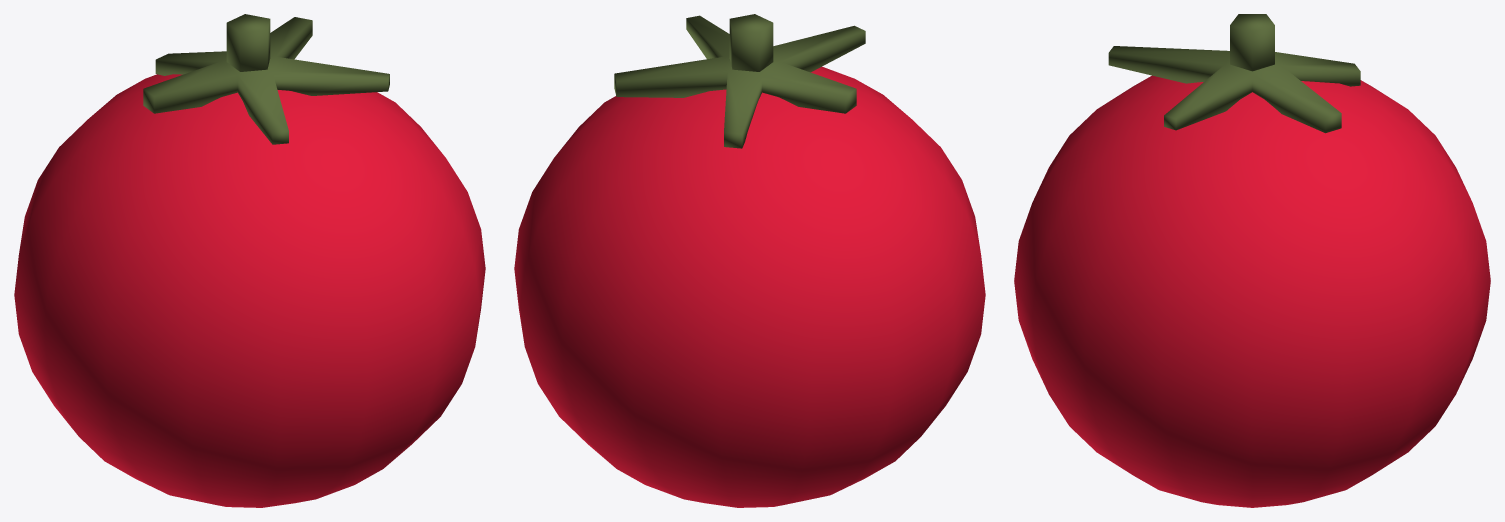
The model's file is tomato2.fbx.
3 renders of one model, left to right at view 1: azimuth 30°, elevation 25°; view 2: azimuth 150°, elevation 25°; view 3: azimuth 270°, elevation 25°, orthographic.
Parts seen in each view (by area): view 1: Cylinder.002; view 2: Cylinder.002; view 3: Cylinder.002.
Boxes of the visible parts, <box> form: Cylinder.002: <box>14,14,485,507</box>; Cylinder.002: <box>514,14,985,507</box>; Cylinder.002: <box>1014,14,1490,507</box>.
Bounding box in the file's own units: 45 × 48.21 × 45.
